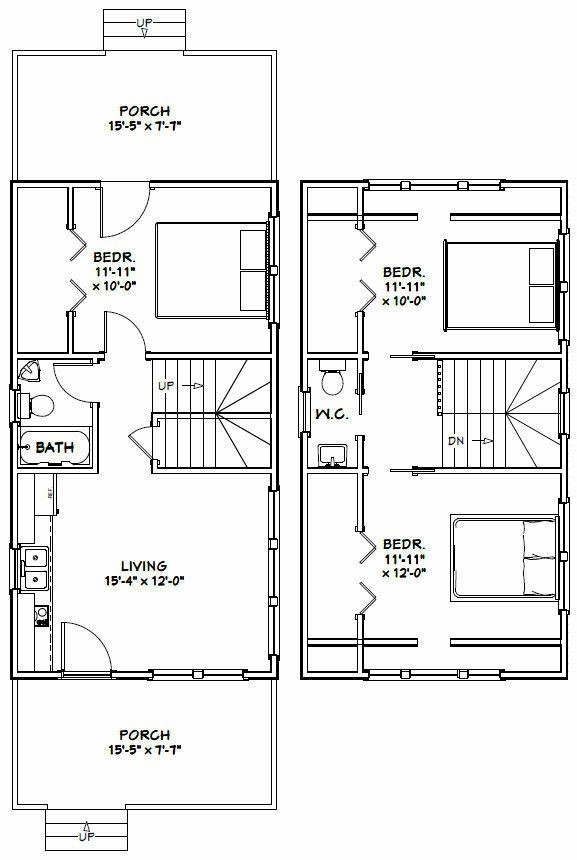door: (59, 623, 115, 694), (102, 181, 154, 249), (90, 299, 151, 355), (55, 368, 112, 412)
room: (293, 169, 577, 683), (9, 172, 283, 689)
